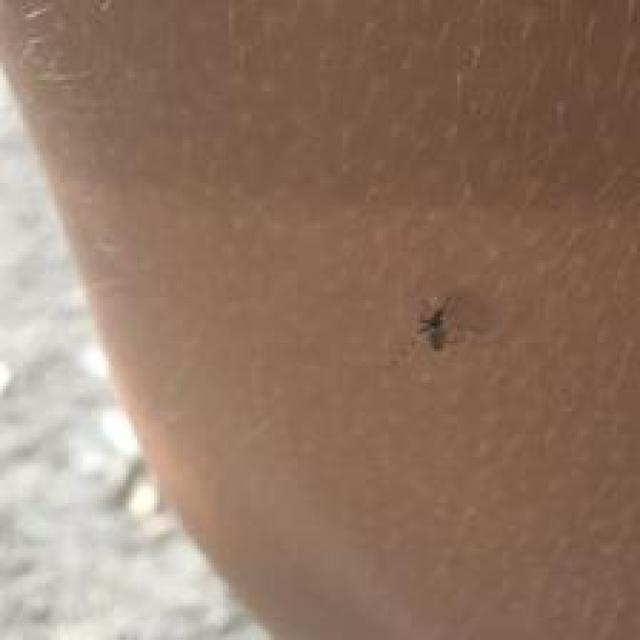Aedes albopictus: (417, 297, 452, 352)
